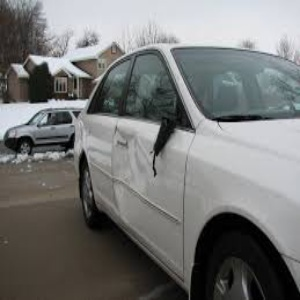bumper_scratch: (32, 174, 140, 284)
